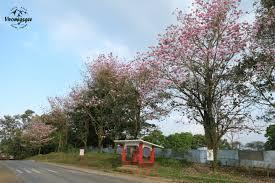tree: (146, 1, 258, 171), (106, 53, 173, 142), (75, 53, 122, 153)
